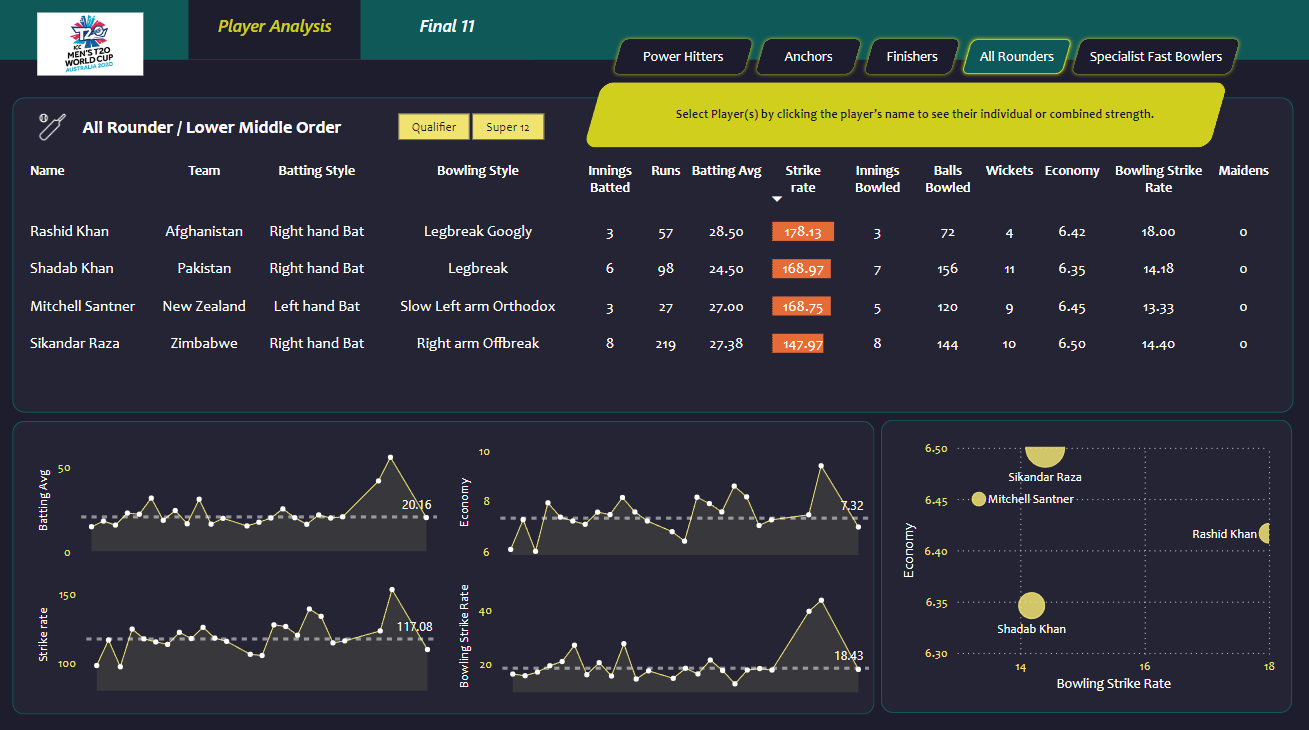

Layout of this report page (visuals, bound fields, positions):
{"tool":"powerbi","page":{"name":"All Rounder /Low","canvas":[640,720],"ordinal":7},"visuals":[{"type":"shape","box":[320.6,19,260,30.9],"z":0,"group":"g1"},{"type":"shape","box":[72,241.7,260,32],"z":0,"group":"g2"},{"type":"shape","box":[10,470,620,241.2],"z":0},{"type":"shape","box":[72,486.7,260,32],"z":0,"group":"g4"},{"type":"image","box":[270.8,16.5,44,36],"z":1000,"group":"g1"},{"type":"shape","box":[10,191.2,620,273.8],"z":1000},{"type":"shape","box":[0,0,640,176.2],"z":2000},{"type":"textbox","box":[964.9,274.5,80.7,31.1],"z":3000},{"type":"simpleImageEBC4593F96F1425FB3D84C5BF02B5075","fields":{"imageURL":["dim_player.image"],"altText":["dim_player.name"]},"box":[103.8,16.2,153.8,160],"z":4000},{"type":"shape","box":[285.3,91,262.7,29.1],"z":5000},{"type":"shape","box":[285.3,123.8,83.6,21.8],"z":6000},{"type":"shape","box":[270.8,91,11.8,58.2],"z":7000},{"type":"group","id":"g1","title":"Group 2","box":[270.8,16.5,309.8,36],"z":8000},{"type":"shape","box":[59,160,520,63.6],"z":8000,"group":"g3"},{"type":"group","id":"g2","title":"Group 2","box":[72,241.7,260,32],"z":9000},{"type":"group","id":"g3","title":"Group 1","box":[59,160,520,63.6],"z":10000},{"type":"card","fields":{"Values":["Key_Measures.Bat Avg"]},"box":[82.8,161.3,91.8,60],"z":10000,"group":"g3"},{"type":"card","fields":{"Values":["Key_Measures.Strike rate"]},"box":[199.2,161.3,92.7,60],"z":11000,"group":"g3"},{"type":"shape","box":[18.4,297.5,65,43.8],"z":11000},{"type":"card","fields":{"Values":["Key_Measures.Economy"]},"box":[316.5,161.3,109.1,60],"z":12000,"group":"g3"},{"type":"shape","box":[18.1,388.9,65,43.8],"z":12000},{"type":"card","fields":{"Values":["Key_Measures.Bowling Strike Rate"]},"box":[453.7,161.3,100,60],"z":13000,"group":"g3"},{"type":"shape","box":[18.1,561,65,43.8],"z":13000},{"type":"shape","box":[18.1,642.8,65,42.5],"z":14000},{"type":"image","box":[20,239,44,36],"z":15000},{"type":"group","id":"g4","title":"Group 2","box":[72,486.7,260,32],"z":16000},{"type":"image","box":[20,484,43.8,36.2],"z":17000},{"type":"pivotTable","fields":{"Columns":["dim_match_summary.Match"],"Values":["Key_Measures.Bat Avg"]},"box":[81,286,549,74],"z":18000},{"type":"pivotTable","fields":{"Columns":["dim_match_summary.Match"],"Values":["Key_Measures.Strike rate"]},"box":[84,380,549,70],"z":19000},{"type":"pivotTable","fields":{"Columns":["dim_match_summary.Match"],"Values":["Key_Measures.Bowling Strike Rate"]},"box":[84,633,549,69],"z":20000},{"type":"pivotTable","fields":{"Columns":["dim_match_summary.Match"],"Values":["Key_Measures.Economy"]},"box":[84,551,550,68],"z":21000}]}

Visuals, with their boxes on the page's 640x720 design canvas (x1, y1, x2, y2). These are canvas units, not pixel positions in the 1309x730 screenshot, which may show the page scaled, cropped or inside an application window:
shape: <bbox>321, 19, 581, 50</bbox>
shape: <bbox>72, 242, 332, 274</bbox>
shape: <bbox>10, 470, 630, 711</bbox>
shape: <bbox>72, 487, 332, 519</bbox>
image: <bbox>271, 16, 315, 52</bbox>
shape: <bbox>10, 191, 630, 465</bbox>
shape: <bbox>0, 0, 640, 176</bbox>
textbox: <bbox>965, 274, 1046, 306</bbox>
simpleImageEBC4593F96F1425FB3D84C5BF02B5075 - dim_player.image x dim_player.name: <bbox>104, 16, 258, 176</bbox>
shape: <bbox>285, 91, 548, 120</bbox>
shape: <bbox>285, 124, 369, 146</bbox>
shape: <bbox>271, 91, 283, 149</bbox>
"Group 2" group: <bbox>271, 16, 581, 52</bbox>
shape: <bbox>59, 160, 579, 224</bbox>
"Group 2" group: <bbox>72, 242, 332, 274</bbox>
"Group 1" group: <bbox>59, 160, 579, 224</bbox>
card - Key_Measures.Bat Avg: <bbox>83, 161, 175, 221</bbox>
card - Key_Measures.Strike rate: <bbox>199, 161, 292, 221</bbox>
shape: <bbox>18, 298, 83, 341</bbox>
card - Key_Measures.Economy: <bbox>316, 161, 426, 221</bbox>
shape: <bbox>18, 389, 83, 433</bbox>
card - Key_Measures.Bowling Strike Rate: <bbox>454, 161, 554, 221</bbox>
shape: <bbox>18, 561, 83, 605</bbox>
shape: <bbox>18, 643, 83, 685</bbox>
image: <bbox>20, 239, 64, 275</bbox>
"Group 2" group: <bbox>72, 487, 332, 519</bbox>
image: <bbox>20, 484, 64, 520</bbox>
pivotTable - dim_match_summary.Match x Key_Measures.Bat Avg: <bbox>81, 286, 630, 360</bbox>
pivotTable - dim_match_summary.Match x Key_Measures.Strike rate: <bbox>84, 380, 633, 450</bbox>
pivotTable - dim_match_summary.Match x Key_Measures.Bowling Strike Rate: <bbox>84, 633, 633, 702</bbox>
pivotTable - dim_match_summary.Match x Key_Measures.Economy: <bbox>84, 551, 634, 619</bbox>
